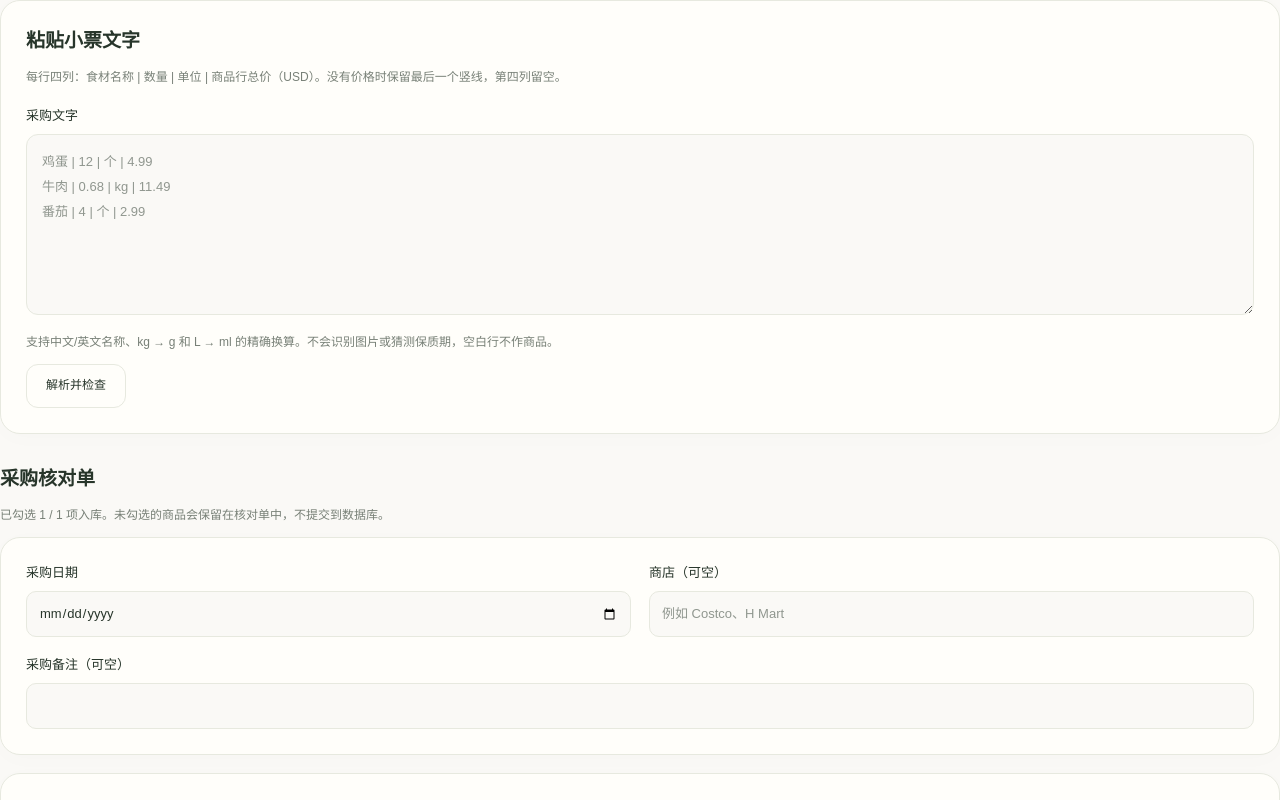
purchase drafts and retry UX › blocks offline submission without claiming the purchase succeeded
Type "2026-10-26" into the date field labelled "采购日期". click: (328, 614)
box: [26,591,631,637]
(page scrolled)
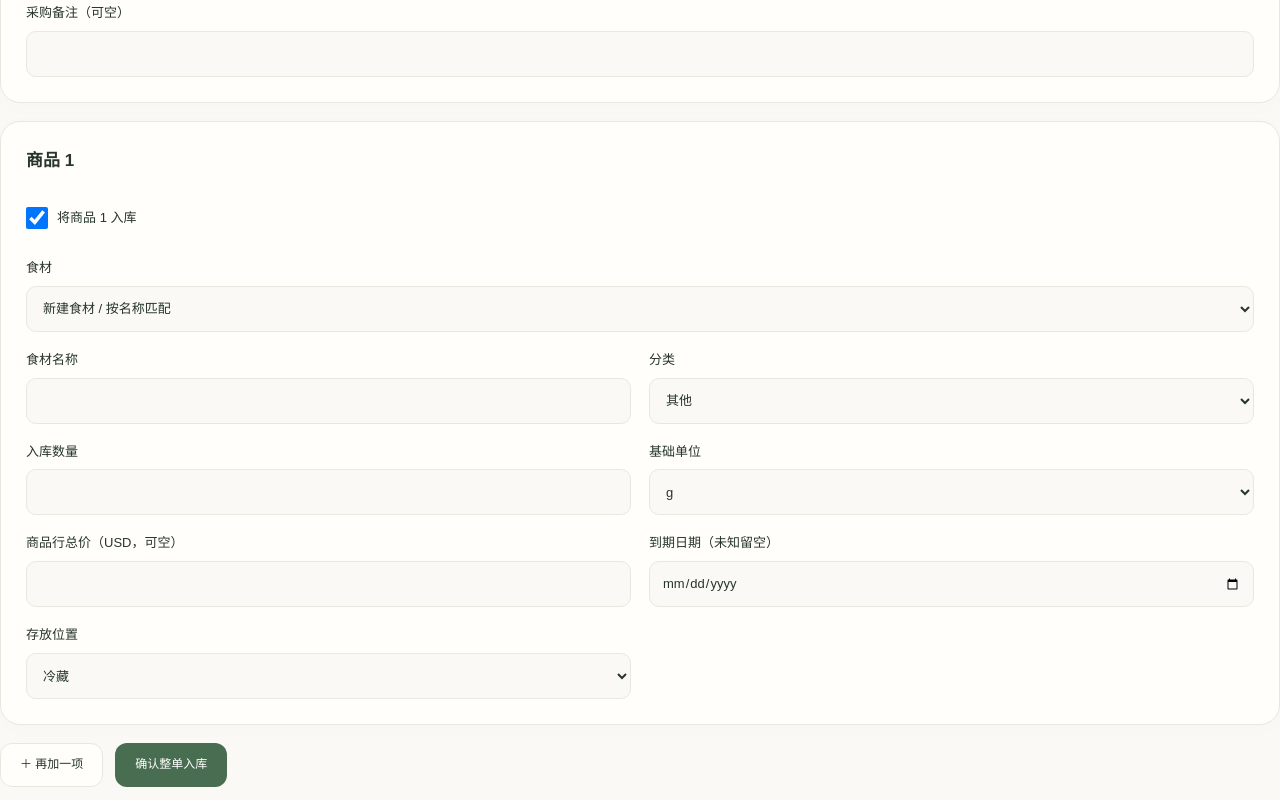
Type "鸡蛋" into the field labelled "食材名称". click: (328, 401)
box: [26,378,631,424]
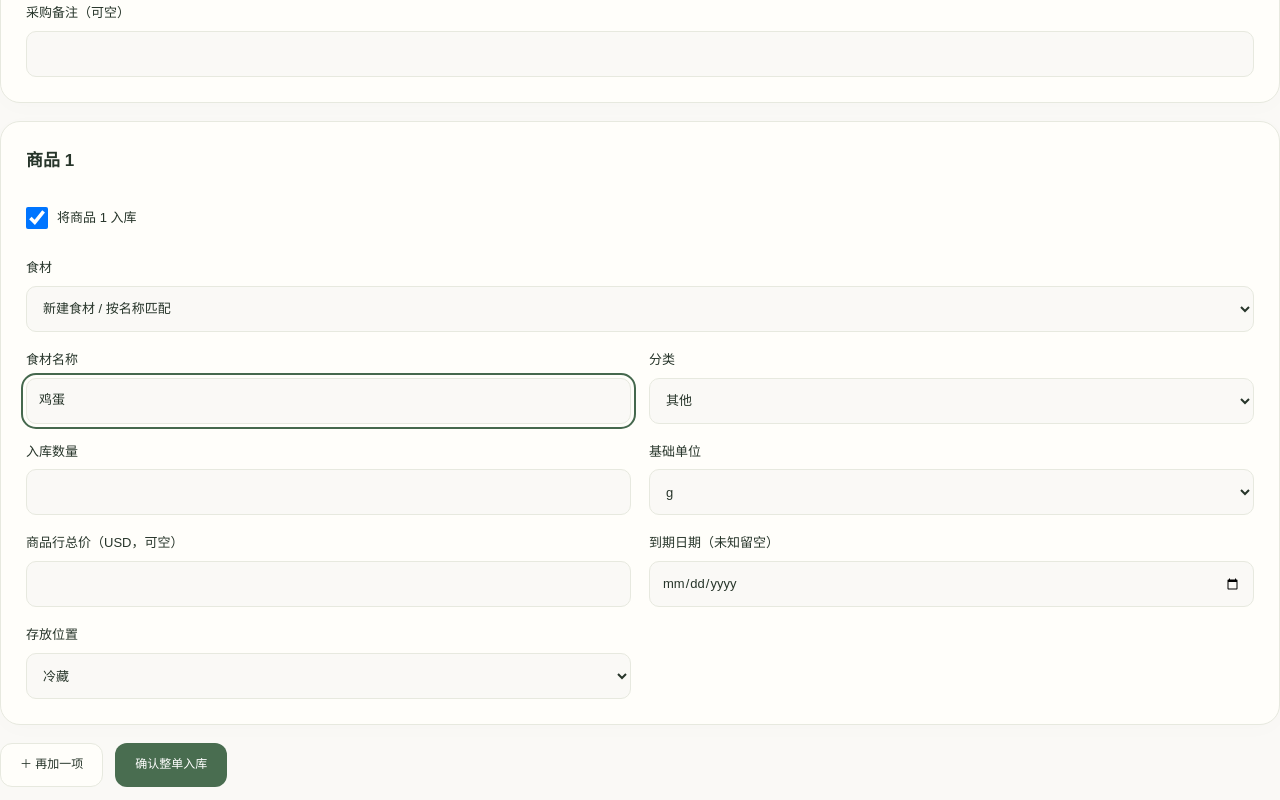
Type "12" into the number field labelled "入库数量". click: (328, 492)
box: [26,469,631,515]
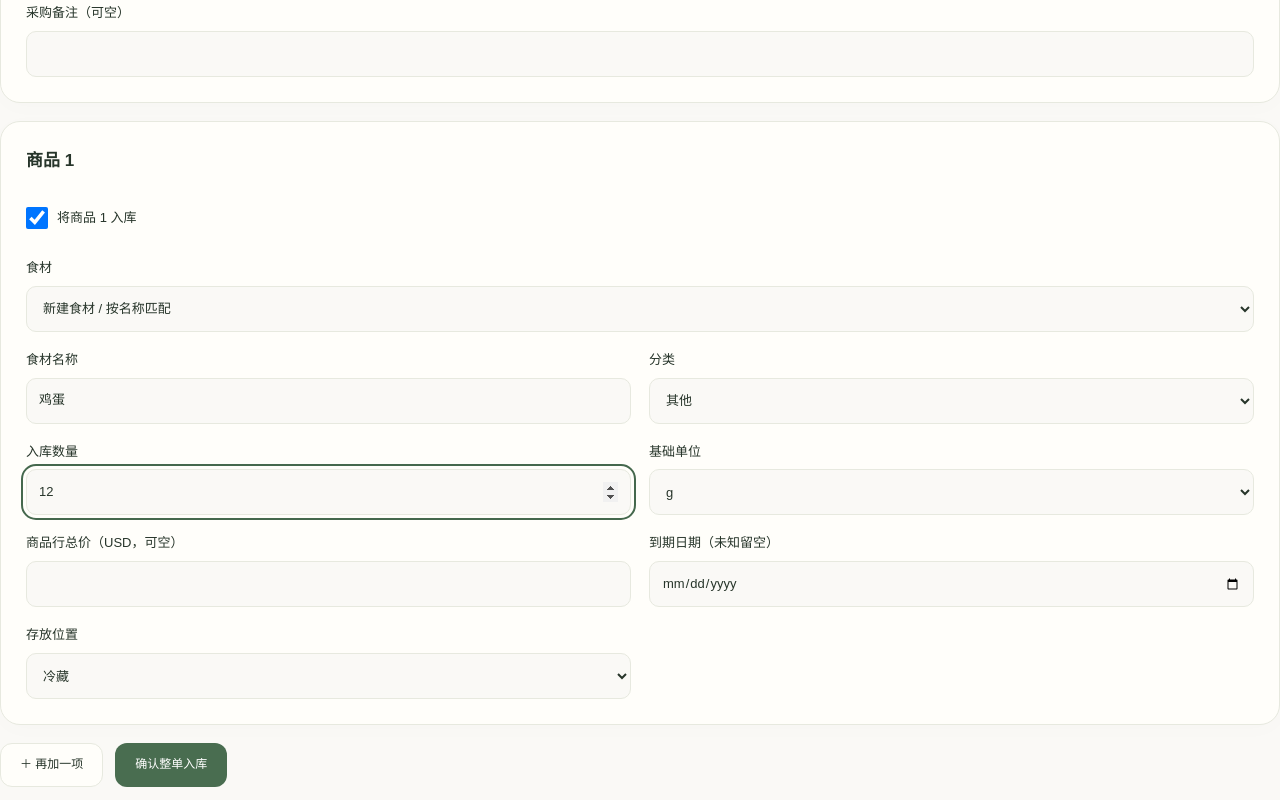
Click the button "确认整单入库". click: (171, 765)
box: [115,743,227,787]
(page scrolled)
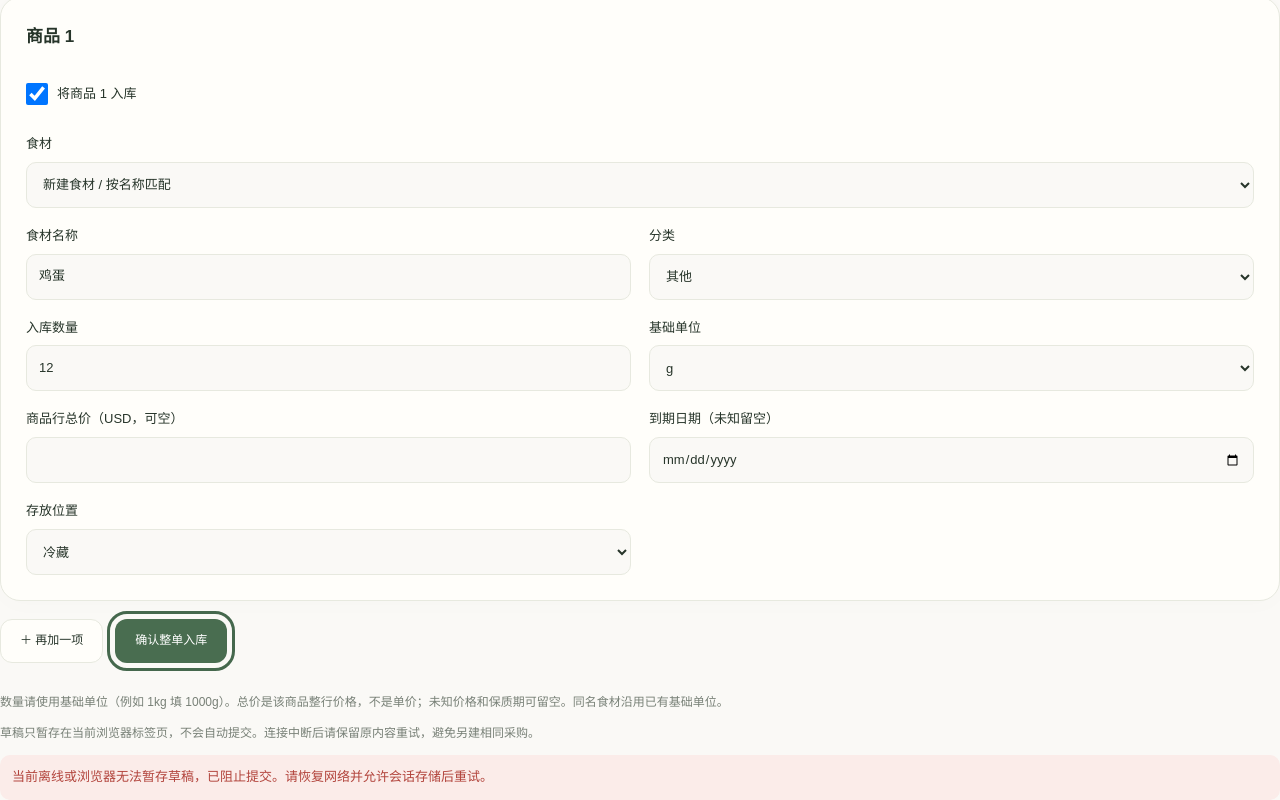
Now the message shows "已阻止提交", box [12,769,493,784]
